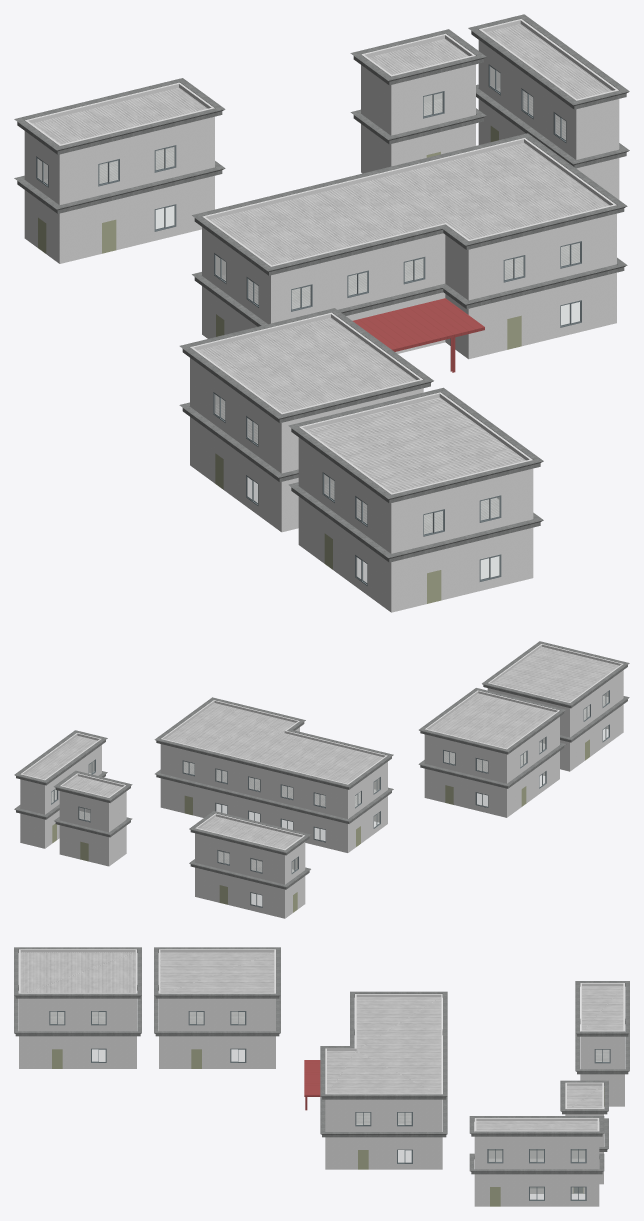
File: Plan(REF)_levels(2)_window(W Sliding2 23_4)_wall(WAFRA WALL)_quoin(N)_cornice(Y).fbx
3 views of the same model, one above another, from view 1: azimuth 30°, elevation 25°; view 2: azimuth 150°, elevation 25°; view 3: azimuth 270°, elevation 25° (orthographic). The views are drawn at different scales.
Parts seen in each view (by area): view 1: WAFRA Stucco - White Rough 23, WAFRA Roof - Corrugated Sheet Matte 23, Concrete - Structural, Glass - Clear, Metal - Finish - Aluminum, WAFRA Roof - Standing Seam Red Coat 23, Color - Beige; view 2: WAFRA Stucco - White Rough 23, WAFRA Roof - Corrugated Sheet Matte 23, Concrete - Structural, Glass - Clear, Metal - Finish - Aluminum, Color - Beige; view 3: WAFRA Stucco - White Rough 23, WAFRA Roof - Corrugated Sheet Matte 23, Concrete - Structural, Glass - Clear, Metal - Finish - Aluminum, Color - Beige, WAFRA Roof - Standing Seam Red Coat 23.
Part boxes in pixels (<box>): WAFRA Stucco - White Rough 23: <box>24,19,619,612</box>; WAFRA Roof - Corrugated Sheet Matte 23: <box>32,24,611,533</box>; Concrete - Structural: <box>14,14,629,562</box>; Glass - Clear: <box>37,66,579,582</box>; Metal - Finish - Aluminum: <box>36,64,581,585</box>; WAFRA Roof - Standing Seam Red Coat 23: <box>353,298,484,372</box>; Color - Beige: <box>38,126,521,603</box>; WAFRA Stucco - White Rough 23: <box>20,644,623,918</box>; WAFRA Roof - Corrugated Sheet Matte 23: <box>24,647,618,872</box>; Concrete - Structural: <box>14,641,629,889</box>; Glass - Clear: <box>51,692,608,906</box>; Metal - Finish - Aluminum: <box>51,690,609,907</box>; Color - Beige: <box>52,739,589,912</box>; WAFRA Stucco - White Rough 23: <box>19,949,624,1206</box>; WAFRA Roof - Corrugated Sheet Matte 23: <box>20,952,623,1161</box>; Concrete - Structural: <box>14,947,629,1174</box>; Glass - Clear: <box>50,1012,609,1199</box>; Metal - Finish - Aluminum: <box>49,1011,610,1200</box>; Color - Beige: <box>52,1049,604,1206</box>; WAFRA Roof - Standing Seam Red Coat 23: <box>304,1060,320,1110</box>.
Size of the model in its own units: 4244 by 5930 by 800.
12 materials, 5 textured.
